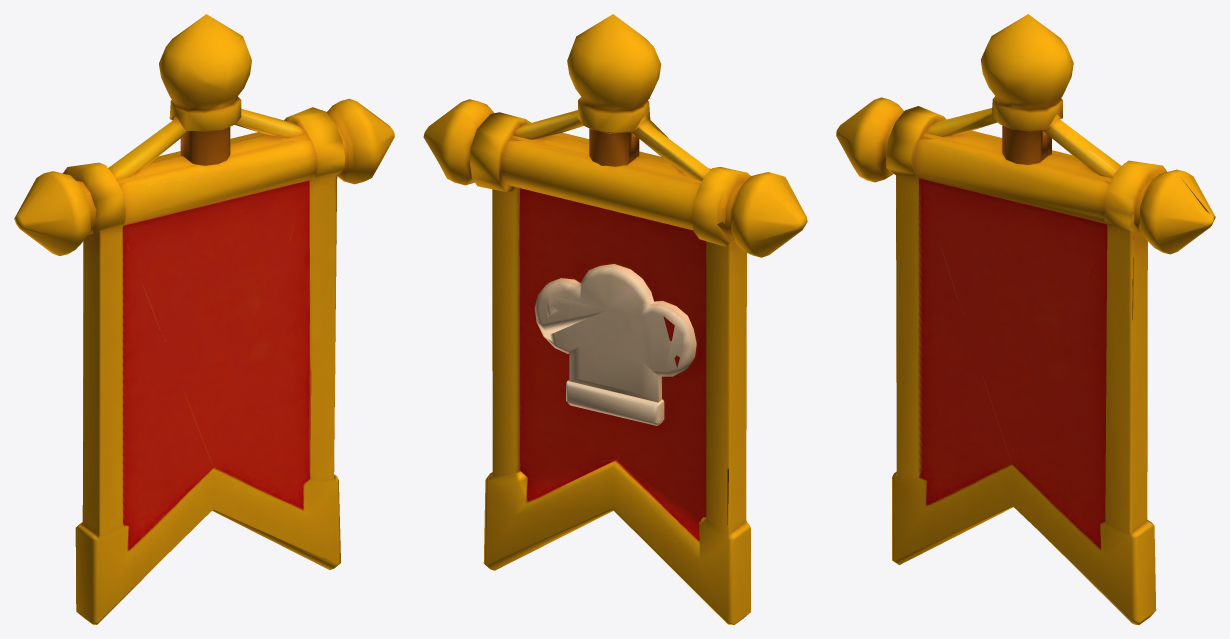
The model's file is banner_red_hat.glb.
3 renders of one model, left to right at view 1: azimuth 30°, elevation 25°; view 2: azimuth 150°, elevation 25°; view 3: azimuth 330°, elevation 25°, orthographic.
Visible parts, largest first — view 1: geometry_0; view 2: geometry_0; view 3: geometry_0.
Part boxes in pixels (x1,y1,x2,y2): geometry_0: (14, 14, 394, 624); geometry_0: (423, 14, 807, 624); geometry_0: (836, 14, 1215, 624).
Bounding box in the file's own units: 0.647 × 0.9526 × 0.1323.
Materials: 1 (1 with a texture image).
